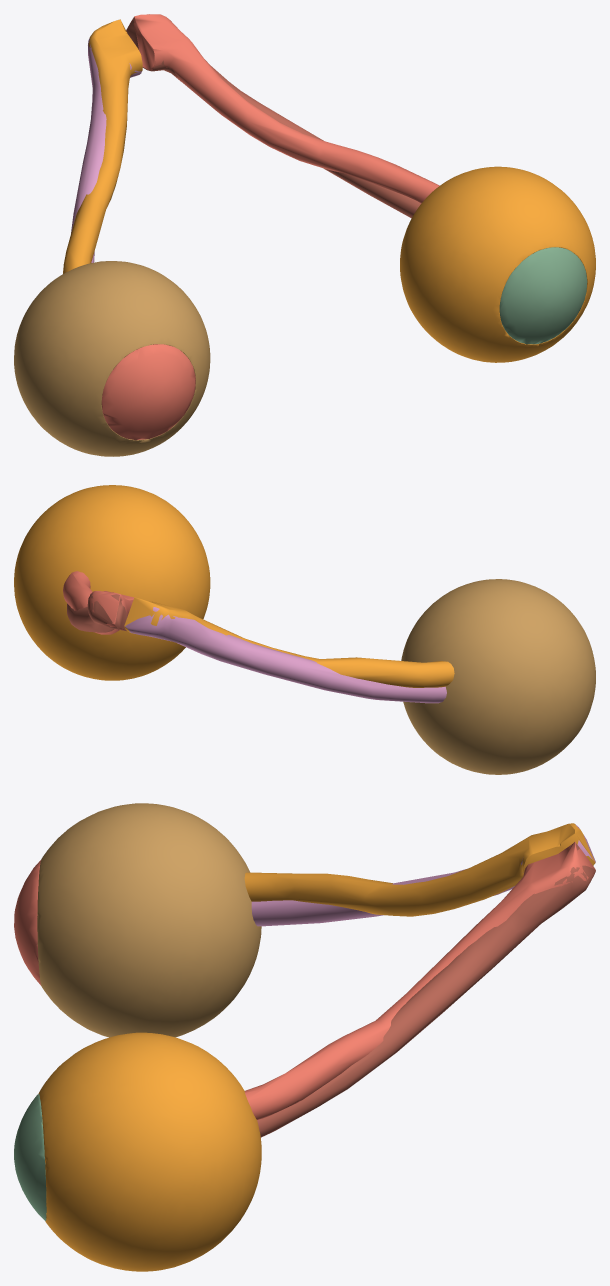
Rendered from eye.glb.
The picture shows the model from 3 angles, top to bottom: view 1: azimuth 30°, elevation 25°; view 2: azimuth 150°, elevation 25°; view 3: azimuth 270°, elevation 25°; orthographic projection. The views are drawn at different scales.
Parts seen in each view (by area): view 1: Left sclera, Right sclera, Left optic nerve (×2), Right optic nerve (×2), Right cornea, Left cornea; view 2: Right sclera, Left sclera, Right optic nerve (×2), Left optic nerve (×2); view 3: Left sclera, Right sclera, Left optic nerve (×2), Right optic nerve (×2), Left cornea, Right cornea.
Part boxes in pixels (x1=…): Left sclera: x1=400, y1=166, x2=595, y2=362; Right sclera: x1=14, y1=261, x2=210, y2=456; Left optic nerve (×2): x1=126, y1=14, x2=439, y2=218; Right optic nerve (×2): x1=63, y1=19, x2=142, y2=273; Right cornea: x1=101, y1=344, x2=195, y2=440; Left cornea: x1=499, y1=247, x2=587, y2=344; Right sclera: x1=401, y1=579, x2=595, y2=774; Left sclera: x1=14, y1=485, x2=210, y2=680; Right optic nerve (×2): x1=124, y1=597, x2=454, y2=703; Left optic nerve (×2): x1=63, y1=571, x2=134, y2=634; Left sclera: x1=38, y1=1032, x2=261, y2=1271; Right sclera: x1=37, y1=803, x2=261, y2=1037; Left optic nerve (×2): x1=244, y1=842, x2=595, y2=1137; Right optic nerve (×2): x1=244, y1=823, x2=595, y2=926; Left cornea: x1=14, y1=1094, x2=46, y2=1220; Right cornea: x1=14, y1=860, x2=41, y2=985.
Size of the model in its own units: 2 by 0.8694 by 1.49.
